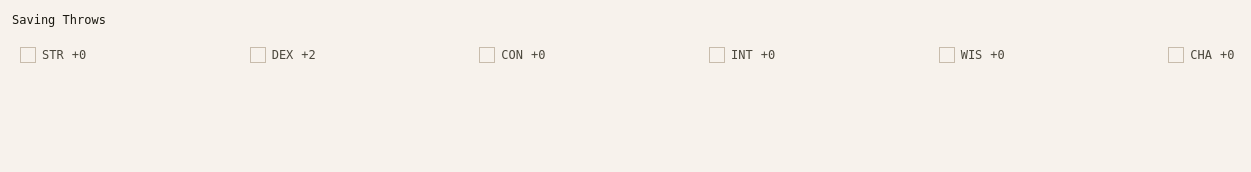
Test case: SavingThrowsField › adds the proficiency bonus to the modifier when checked
The image size is (1251, 172).
Click the checkbox named "dex" next to "dex": x=258, y=55 [250,47,266,63]
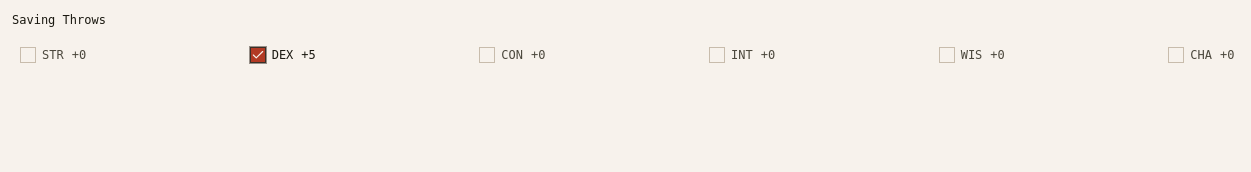
Result: the text "+5" is shown at [301,47,316,63]
